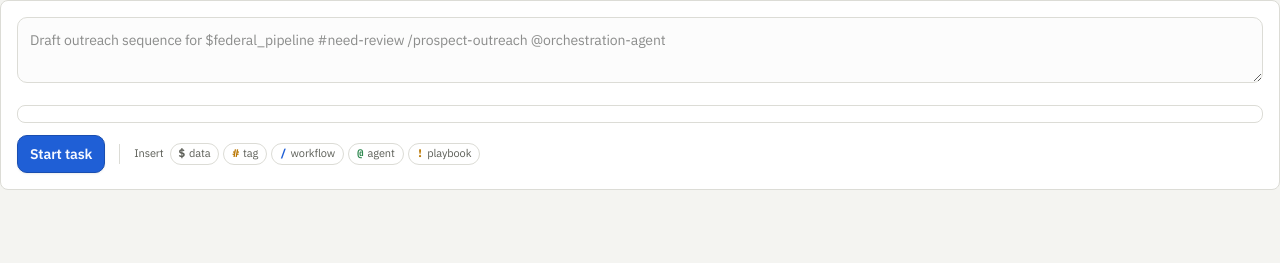
Test case: TaskKickoffComposer › surfaces backend run-creation failures with the original error detail
Replace the text in the text box with placeholder "Draft outreach sequence" with "Start the launch checklist" at [640, 50], box top-left (17, 17), bottom-right (1263, 83)
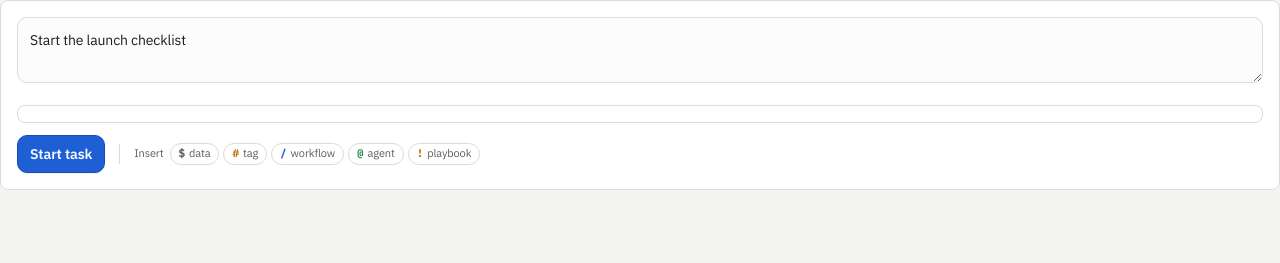
Click the button "Start task" at [61, 154], box top-left (17, 135), bottom-right (105, 173)
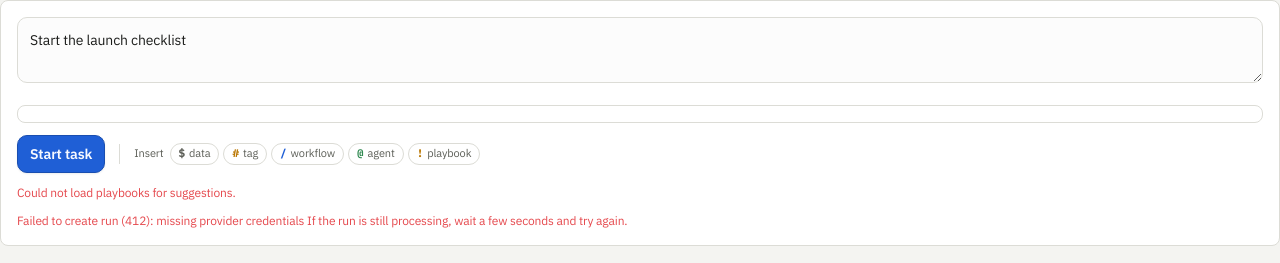
Expected: the text "Failed to create run (412): missing provider credentials" is shown, top-left (17, 213), bottom-right (628, 228)
